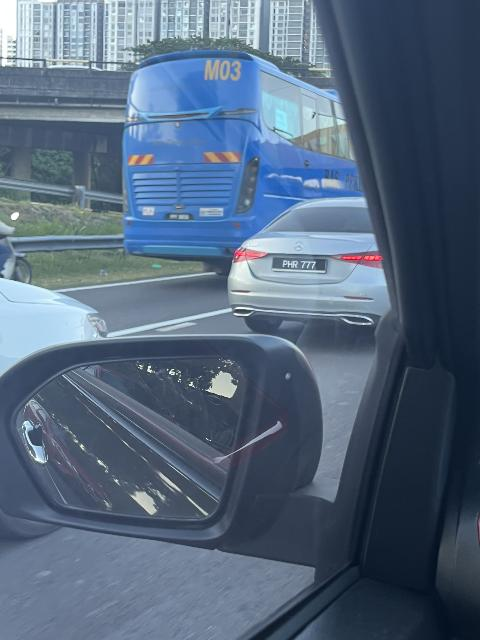License_Plate: (269, 256, 331, 284), (163, 212, 197, 226)
car: (229, 193, 435, 333)
